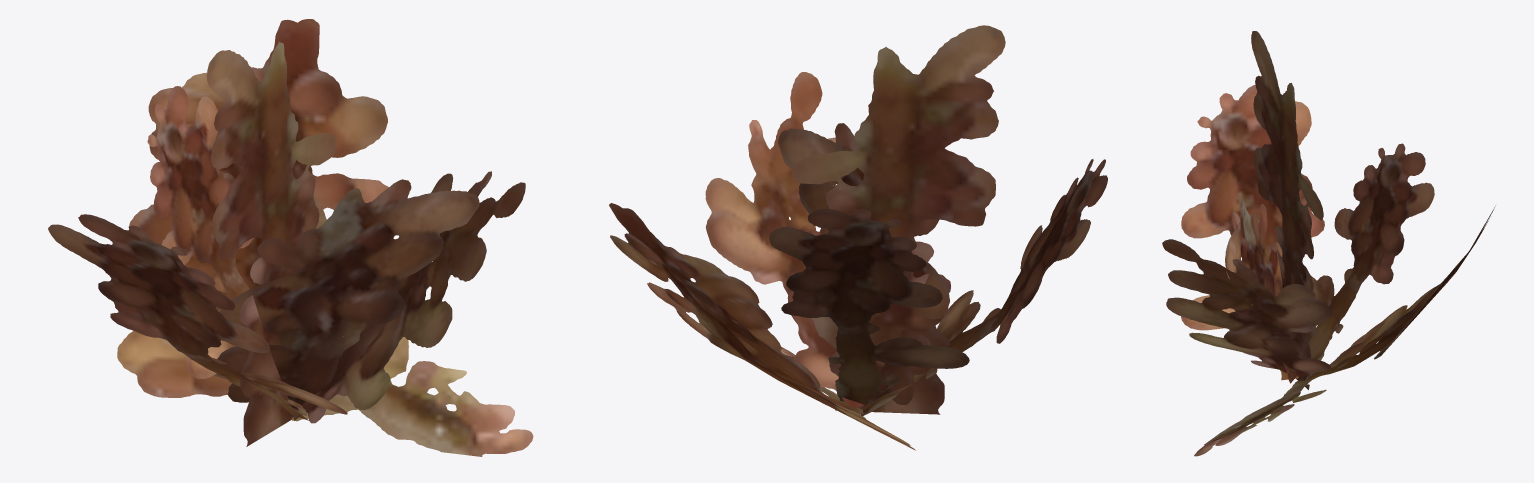
File: seaweed_3_8.FBX
3 renders of one model, left to right at view 1: azimuth 30°, elevation 25°; view 2: azimuth 150°, elevation 25°; view 3: azimuth 270°, elevation 25°, orthographic. The views are drawn at different scales.
Visible parts, largest first — view 1: seaweed_3_08; view 2: seaweed_3_08; view 3: seaweed_3_08.
Part boxes in pixels (bbox=[...]): seaweed_3_08: bbox=[48, 19, 533, 456]; seaweed_3_08: bbox=[609, 25, 1107, 450]; seaweed_3_08: bbox=[1162, 31, 1495, 456].
Bounding box in the file's own units: 12.93 × 11.89 × 11.79.
1 material, 1 textured.
